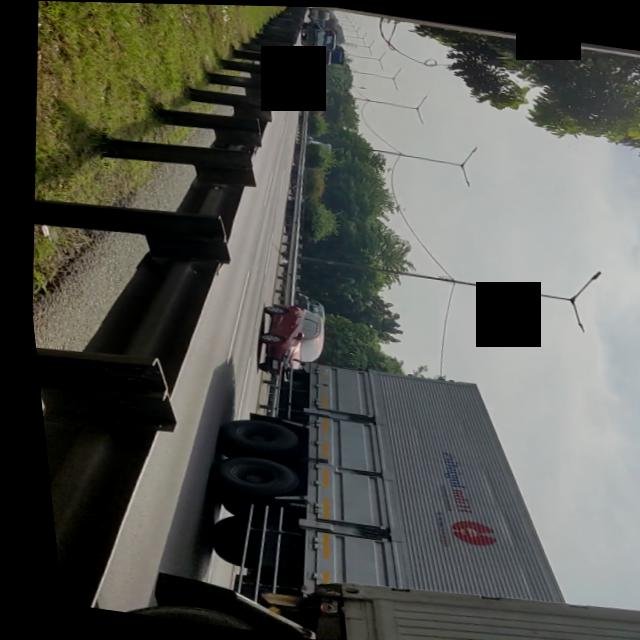Golongan I: (238, 294, 333, 380)
